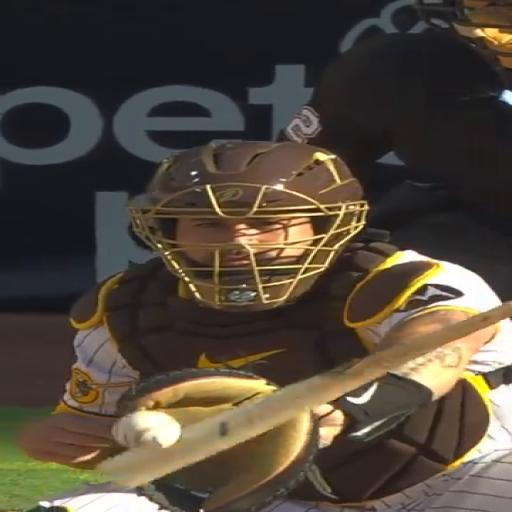bat: (96, 302, 511, 486)
